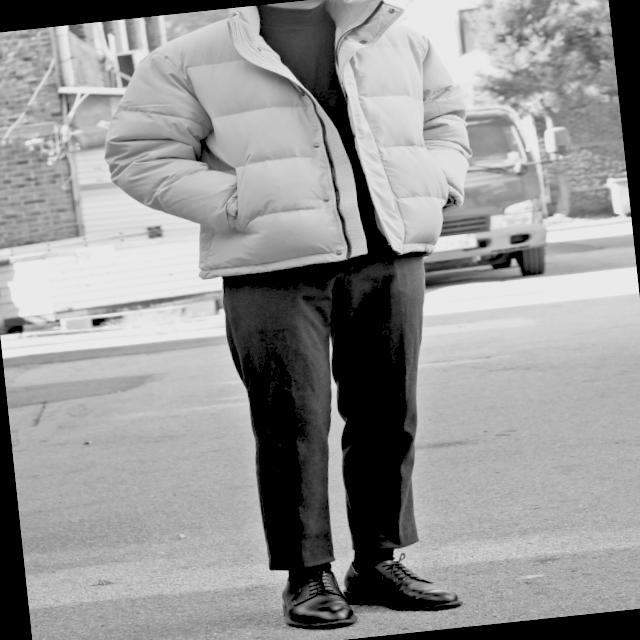padding: (89, 0, 488, 289)
slacks: (222, 240, 452, 570)
